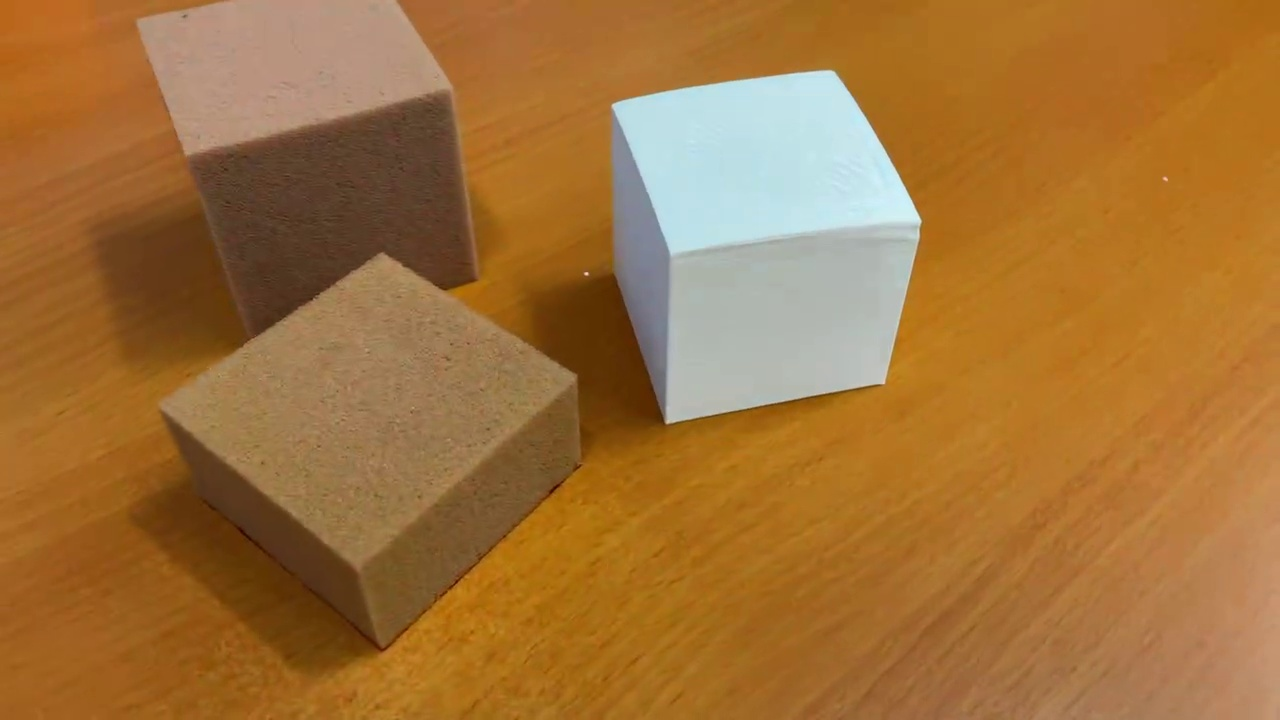Cube: (601, 64, 935, 431), (134, 1, 490, 342)
Cube_short: (150, 245, 586, 658)
